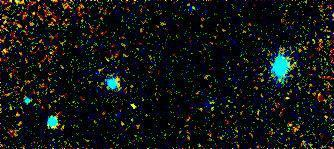star: (114, 90, 144, 120)
